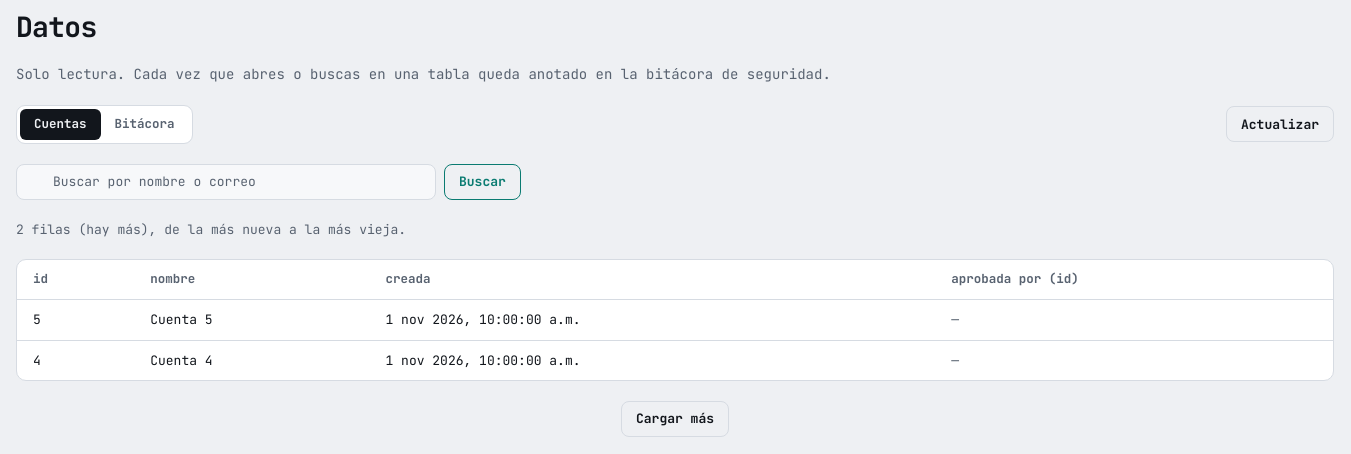
Scenario: PaginaDatos › Cargar más pide desde el id de la última fila y las agrega
Expected: the text "Cuenta 5" is shown, [134,300,370,340]
Click the button "Cargar más" at (675, 419), box [621,401,729,437]
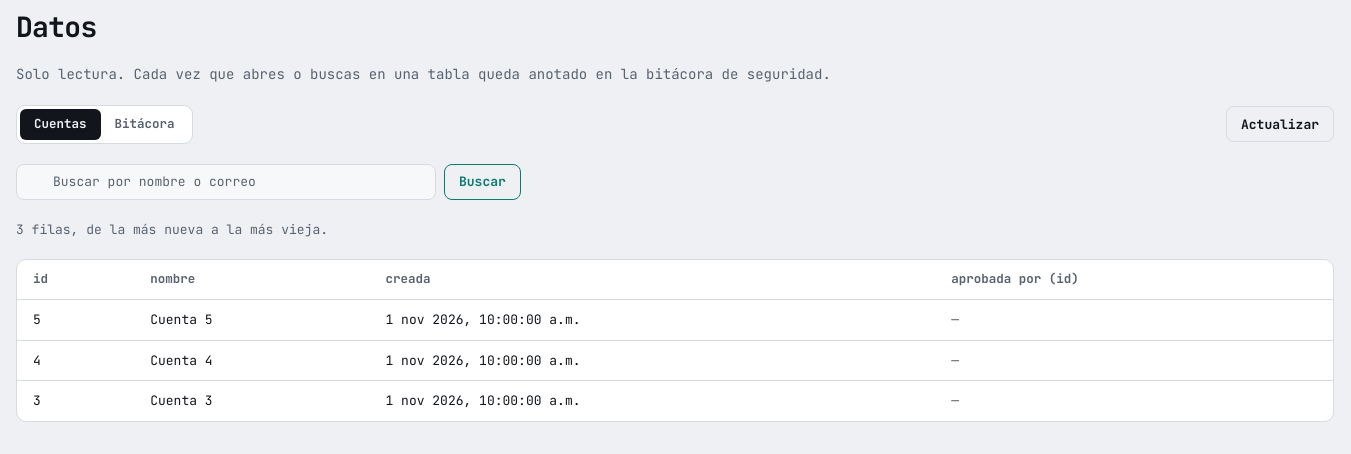
Expected: the text "Cuenta 5" is shown, [134,300,370,340]
Expected: the text "Cuenta 3" is shown, [134,380,370,420]
Expected: the button "Cargar más" is gone
